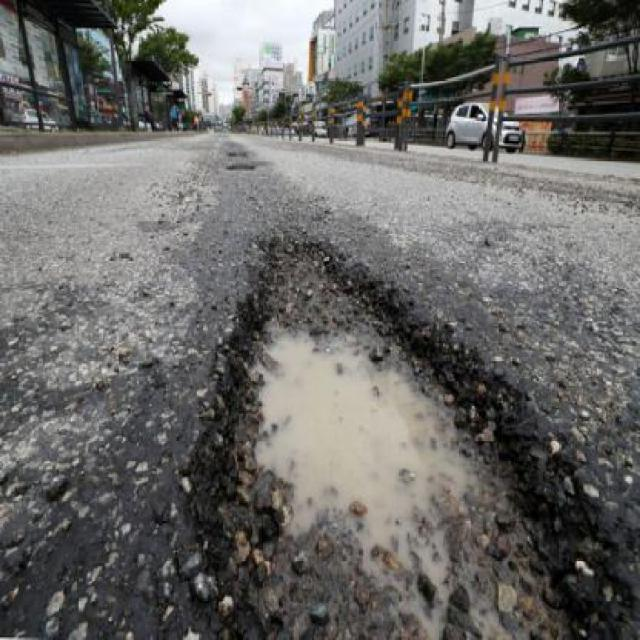pothole: (201, 226, 572, 639)
